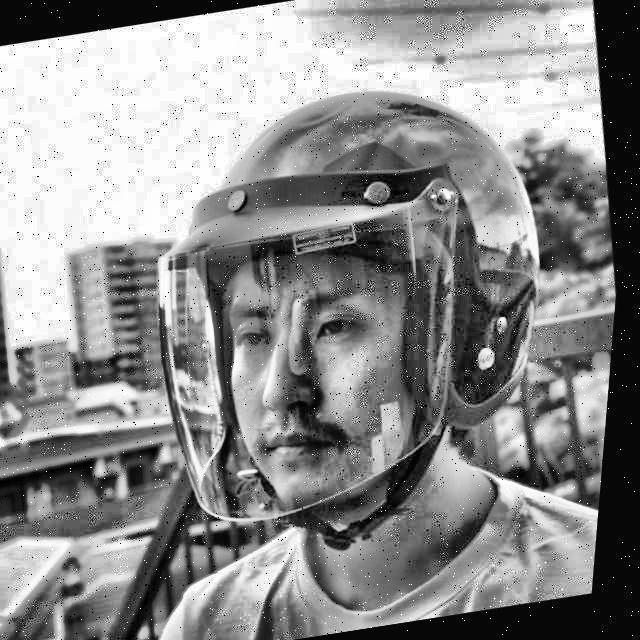Helmet: (105, 48, 610, 584)
